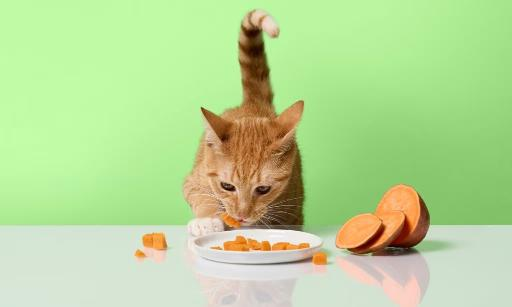cat_eating: (183, 10, 320, 264)
